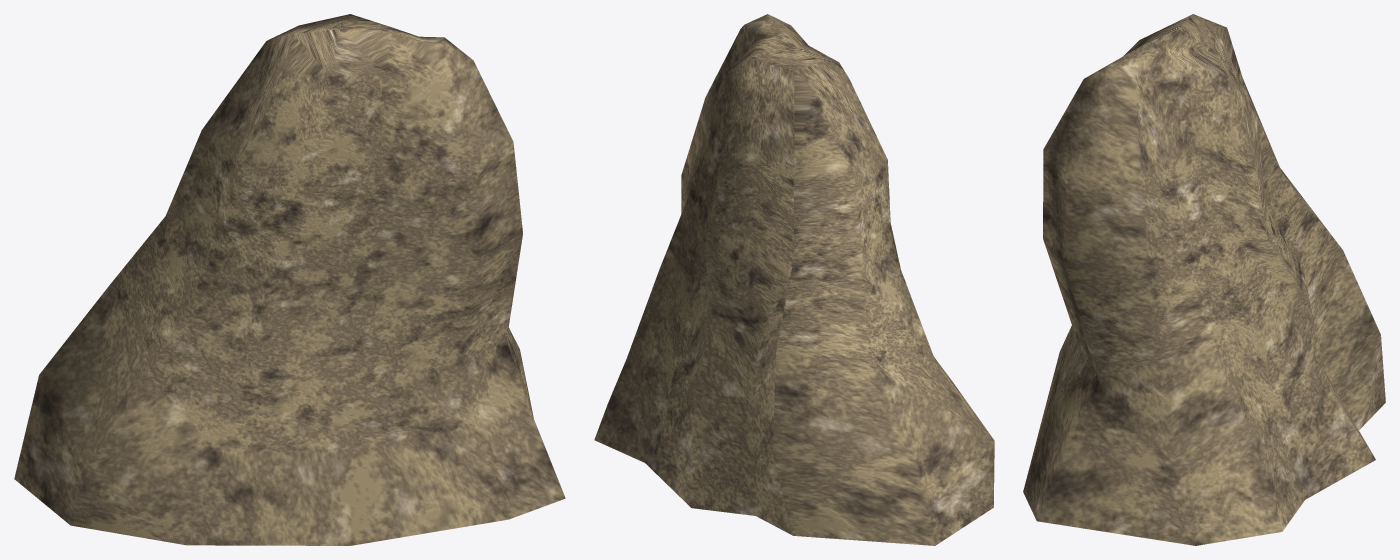
Rendered from stone3.fbx.
3 renders of one model, left to right at view 1: azimuth 30°, elevation 25°; view 2: azimuth 150°, elevation 25°; view 3: azimuth 270°, elevation 25°, orthographic. The views are drawn at different scales.
Visible parts, largest first — view 1: stone3; view 2: stone3; view 3: stone3.
Part boxes in pixels (box(x1,y1,x2,y2)): stone3: box(14, 14, 565, 545); stone3: box(594, 14, 994, 545); stone3: box(1023, 14, 1385, 545).
Bounding box in the file's own units: 16.92 × 16.19 × 12.55.
